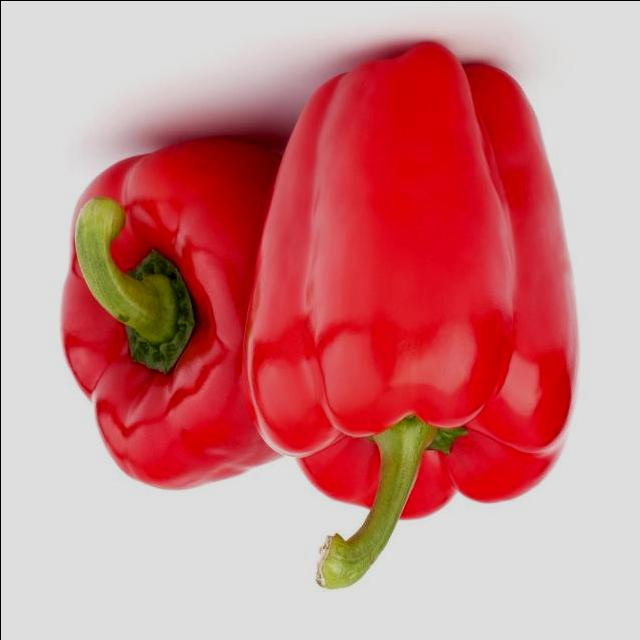bell_pepper: (244, 43, 582, 595), (64, 141, 266, 492)
